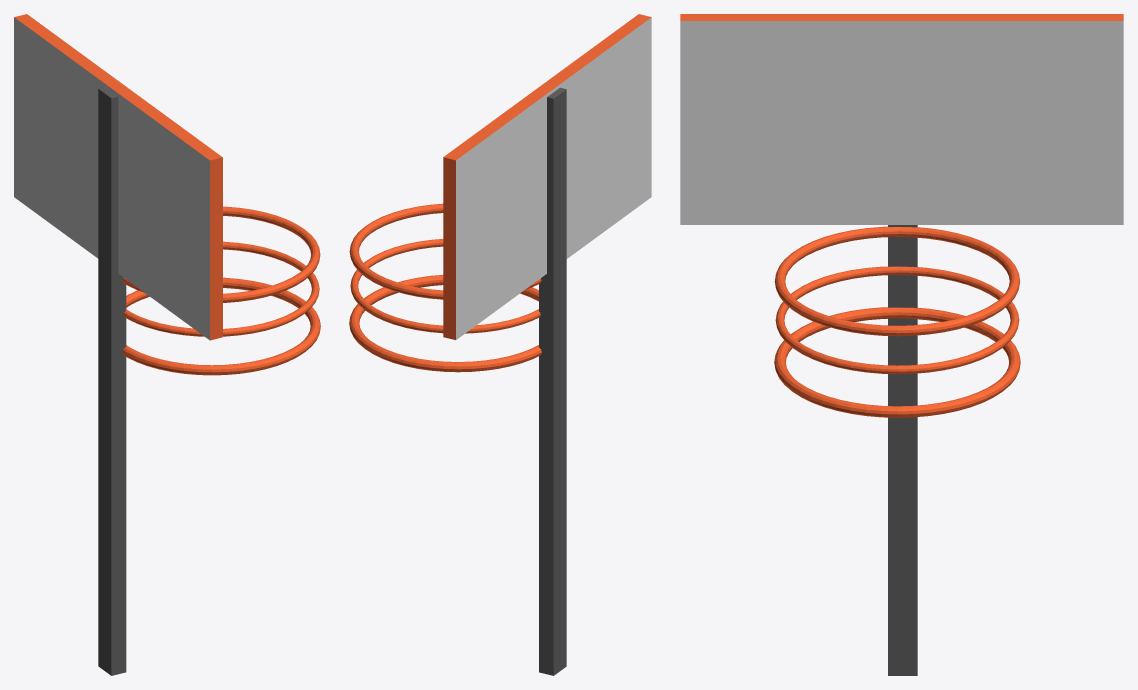
File: hoop.fbx
The picture shows the model from 3 angles, left to right: view 1: azimuth 30°, elevation 25°; view 2: azimuth 150°, elevation 25°; view 3: azimuth 270°, elevation 25°; orthographic projection. The views are drawn at different scales.
Visible parts, largest first — view 1: Torus.001; view 2: Torus.001; view 3: Torus.001.
Boxes of the visible parts, x1,y1,x2,y2 form: Torus.001: (14, 14, 320, 675); Torus.001: (349, 14, 651, 675); Torus.001: (680, 14, 1123, 675).
Size of the model in its own units: 221 by 618 by 377.
